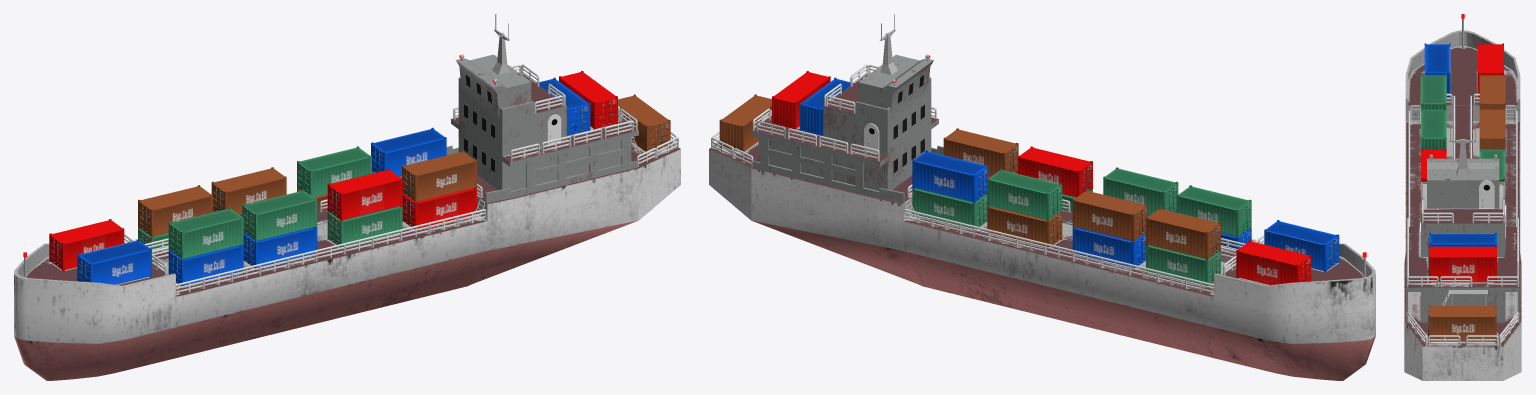
File: small_cargo_ship.glb
3 renders of one model, left to right at view 1: azimuth 30°, elevation 25°; view 2: azimuth 150°, elevation 25°; view 3: azimuth 270°, elevation 25°, orthographic. The views are drawn at different scales.
Visible parts, largest first — view 1: polySurface2268, polySurface2207, polySurface2081, polySurface1965, polySurface1987, polySurface2117, polySurface2215, polySurface2336, polySurface2270, polySurface2021, polySurface2138, polySurface2347 (+8 smaller); view 2: polySurface2268, polySurface2207, polySurface2138, polySurface2021, polySurface2270, polySurface2106, polySurface2216, polySurface2347, polySurface2081, polySurface1965, polySurface2336, polySurface1987 (+8 smaller); view 3: polySurface2268, polySurface2207, polySurface2322, polySurface2311, polySurface2106, polySurface1987, polySurface2336, polySurface2300, polySurface2270, polySurface2081, polySurface2347, polySurface2208 (+19 smaller).
Boxes of the visible parts, x1,y1,x2,y2 form: polySurface2268: [14, 142, 680, 380]; polySurface2207: [451, 54, 638, 190]; polySurface2081: [168, 207, 243, 259]; polySurface1965: [327, 168, 402, 221]; polySurface1987: [242, 189, 317, 241]; polySurface2117: [402, 150, 476, 202]; polySurface2215: [485, 137, 637, 203]; polySurface2336: [77, 239, 151, 284]; polySurface2270: [138, 185, 212, 237]; polySurface2021: [297, 146, 371, 197]; polySurface2138: [371, 127, 446, 176]; polySurface2347: [49, 219, 124, 271]; polySurface2268: [709, 141, 1375, 380]; polySurface2207: [751, 55, 938, 190]; polySurface2138: [912, 150, 988, 203]; polySurface2021: [987, 169, 1062, 221]; polySurface2270: [1146, 207, 1220, 259]; polySurface2106: [1072, 189, 1147, 241]; polySurface2216: [752, 137, 904, 203]; polySurface2347: [1236, 240, 1311, 285]; polySurface2081: [1176, 185, 1251, 237]; polySurface1965: [1018, 146, 1092, 197]; polySurface2336: [1264, 220, 1339, 272]; polySurface1987: [1103, 167, 1178, 215]; polySurface2268: [1404, 30, 1521, 380]; polySurface2207: [1406, 158, 1519, 322]; polySurface2322: [1429, 245, 1496, 282]; polySurface2311: [1428, 305, 1496, 342]; polySurface2106: [1479, 109, 1505, 149]; polySurface1987: [1420, 109, 1446, 149]; polySurface2336: [1424, 43, 1450, 97]; polySurface2300: [1429, 232, 1496, 246]; polySurface2270: [1479, 74, 1505, 109]; polySurface2081: [1420, 74, 1446, 109]; polySurface2347: [1478, 43, 1503, 97]; polySurface2208: [1455, 105, 1472, 158].
Bounding box in the file's own units: 2 × 0.7404 × 0.3277.
Materials: 1 (1 with a texture image).
